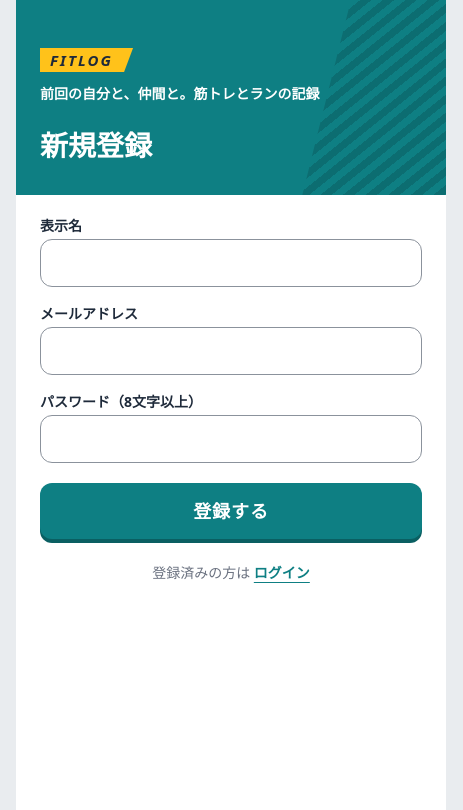
Test: SignupForm（S-02） › 登録済みのメールなら、ログインを勧める
Type "ゆうす" into the field labelled "表示名" at (231, 263), box top-left (40, 239), bottom-right (422, 287)
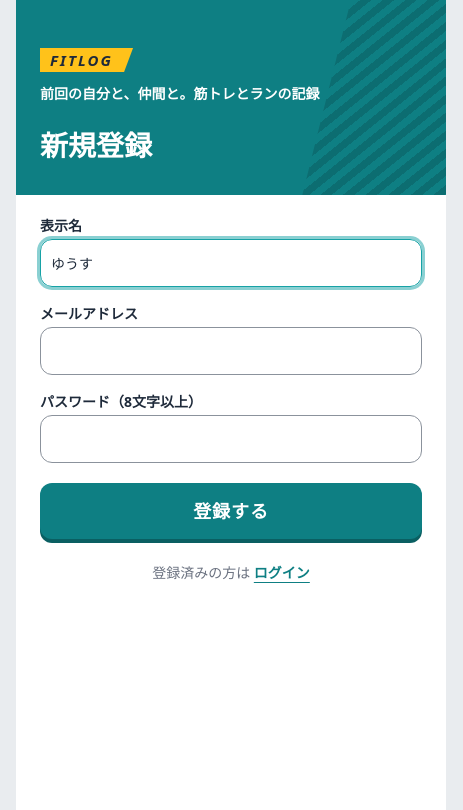
Type "a@example.com" into the field labelled "メールアドレス" at (231, 351), box top-left (40, 327), bottom-right (422, 375)
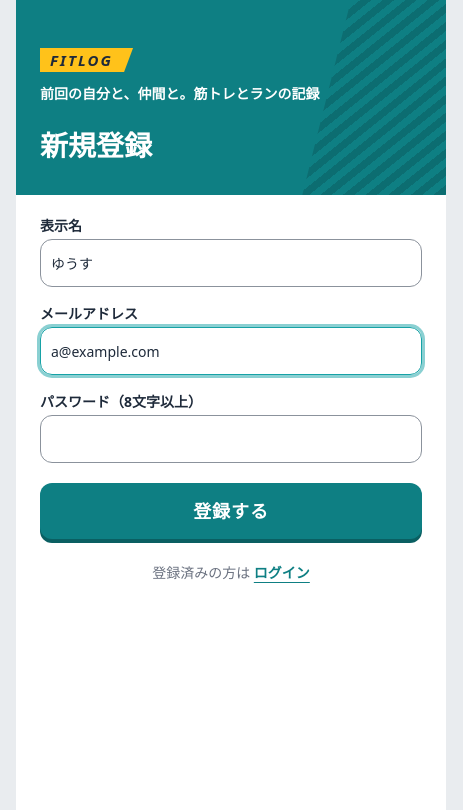
Type "password123" into the password field labelled "パスワード（8文字以上）" at (231, 439), box top-left (40, 415), bottom-right (422, 463)
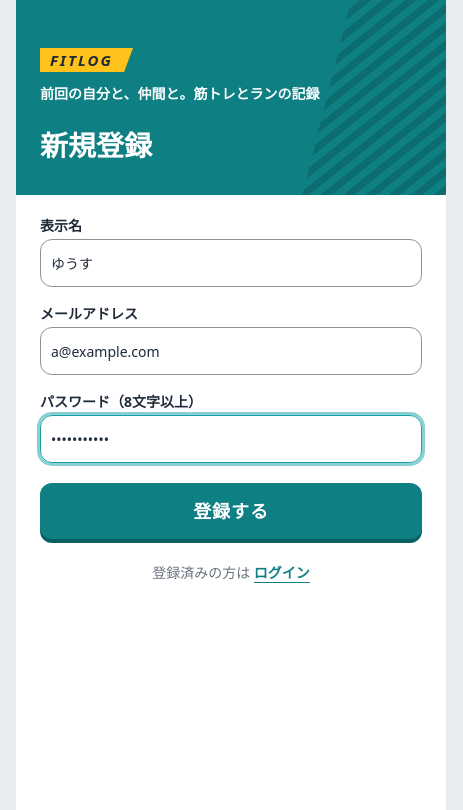
Click the button "登録する" at (231, 511), box top-left (40, 483), bottom-right (422, 539)
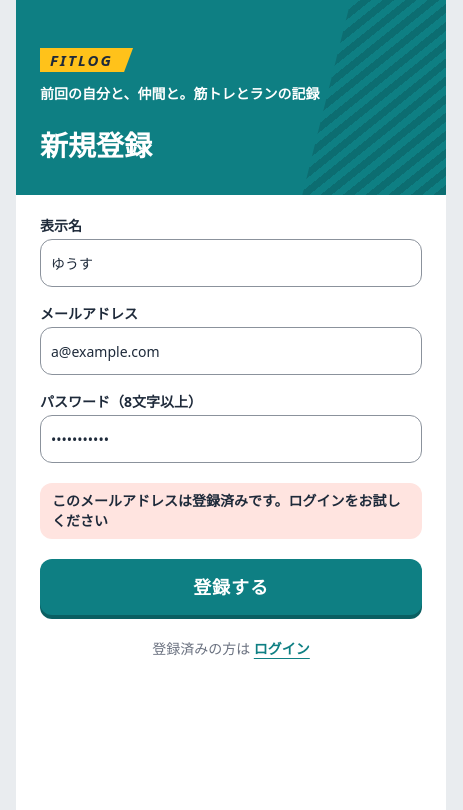
Expected: the message shows "登録済み", top-left (52, 491), bottom-right (401, 530)
